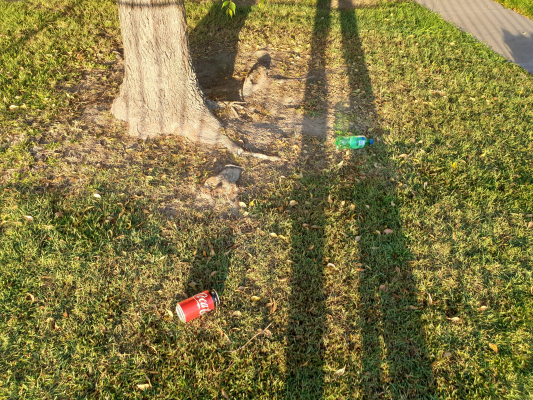Plastic Bottle: (175, 288, 220, 323), (336, 135, 374, 149)
